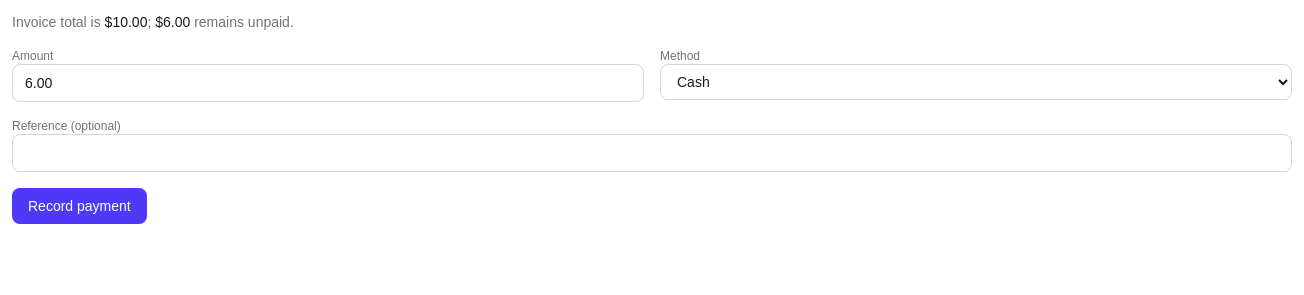
Scenario: PaymentForm › rejects non-positive amounts
Replace the text in the field labelled "Amount" with "0" at (328,83), box [12,64,644,102]
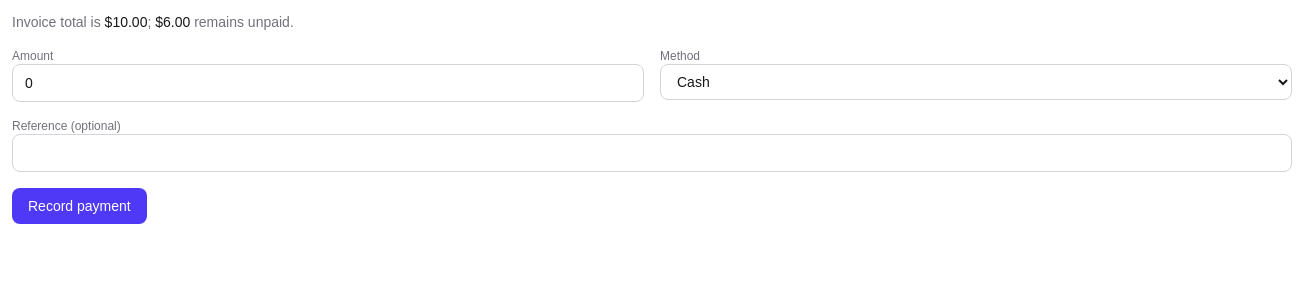
Click the button "Record payment" at (79,206), box [12,188,147,224]
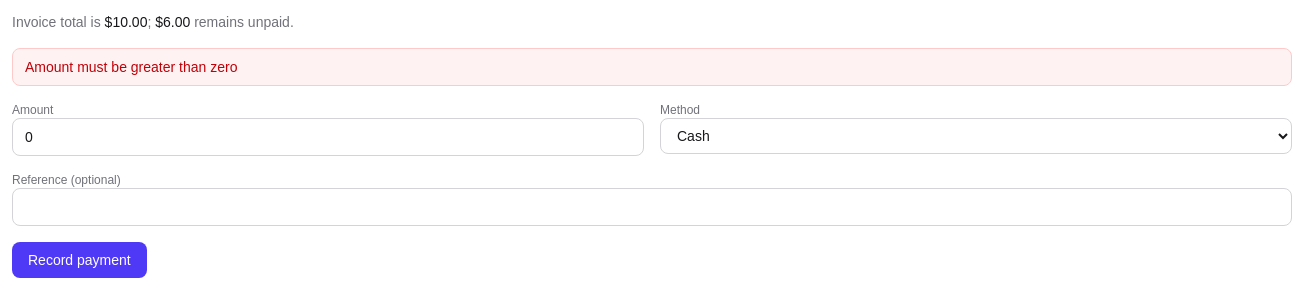
Check: the message shows "greater than zero", box [25,59,238,75]
